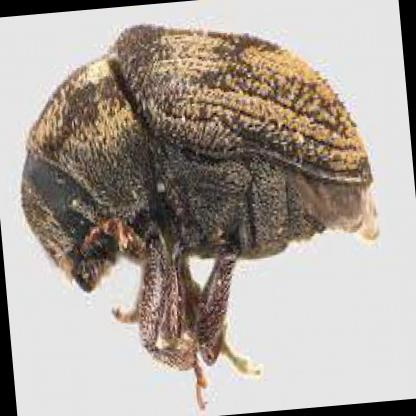ash weevil: (21, 20, 378, 408)
